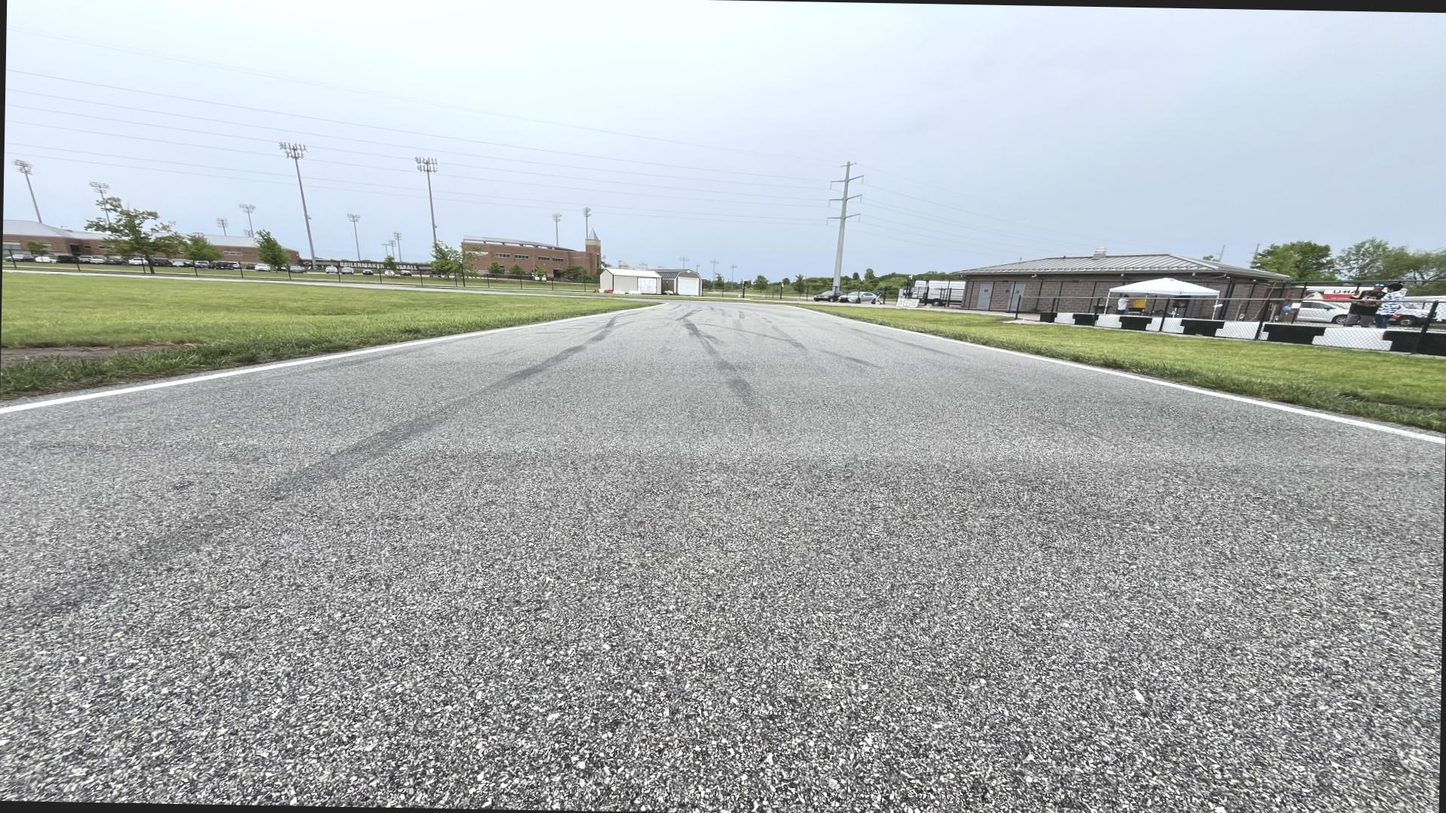white-line: (768, 305, 1444, 445), (0, 303, 669, 414)
